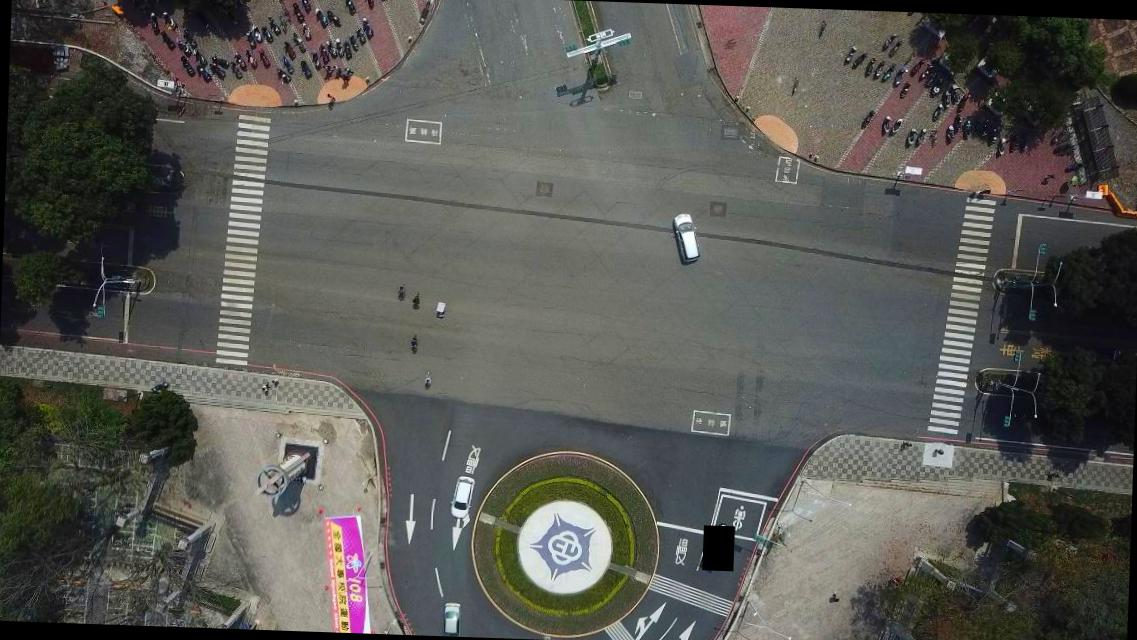vehicle: (671, 214, 700, 262), (450, 475, 474, 519), (442, 600, 460, 636)
